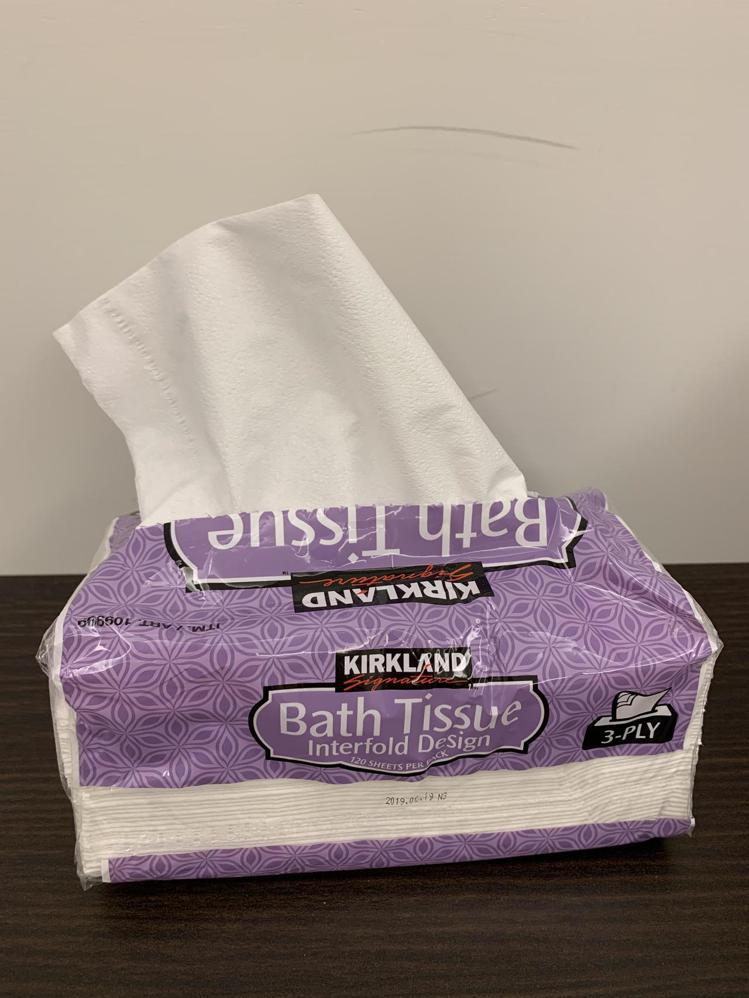tissue: (45, 172, 701, 878)
